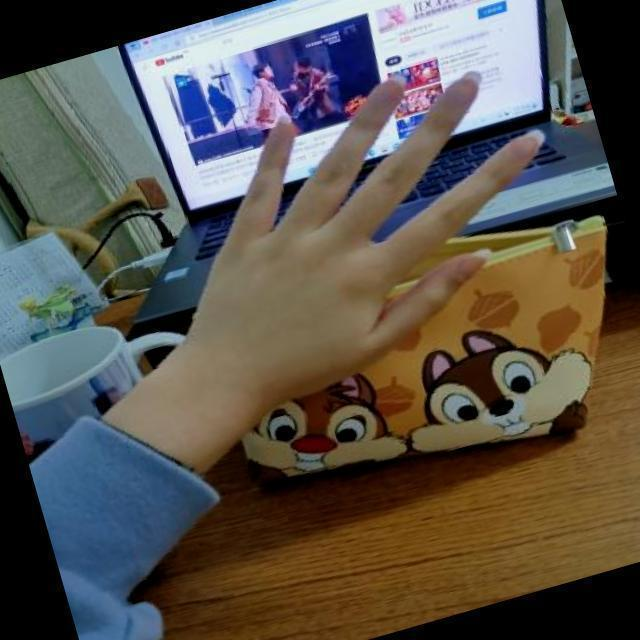hand: (115, 16, 625, 442)
